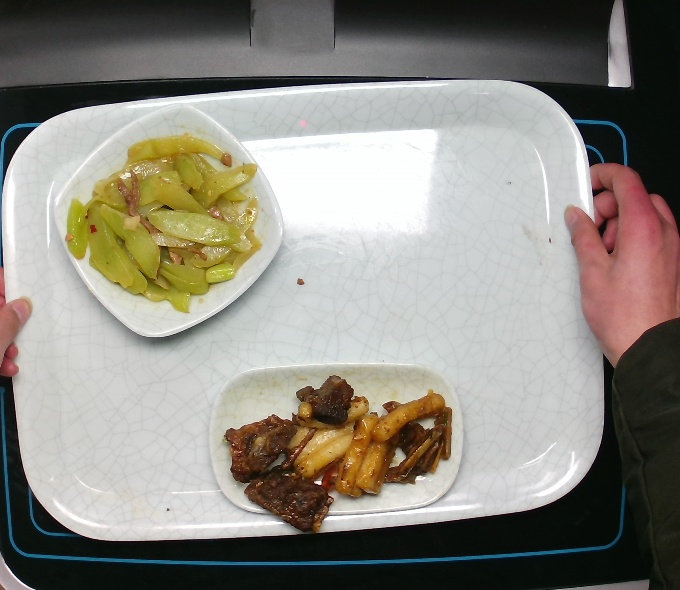wcq-NianGaoZaiPai: (215, 369, 462, 541)
wcq-WoSun: (55, 123, 278, 315)
